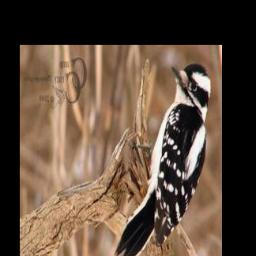Woodpecker: (114, 62, 213, 256)
